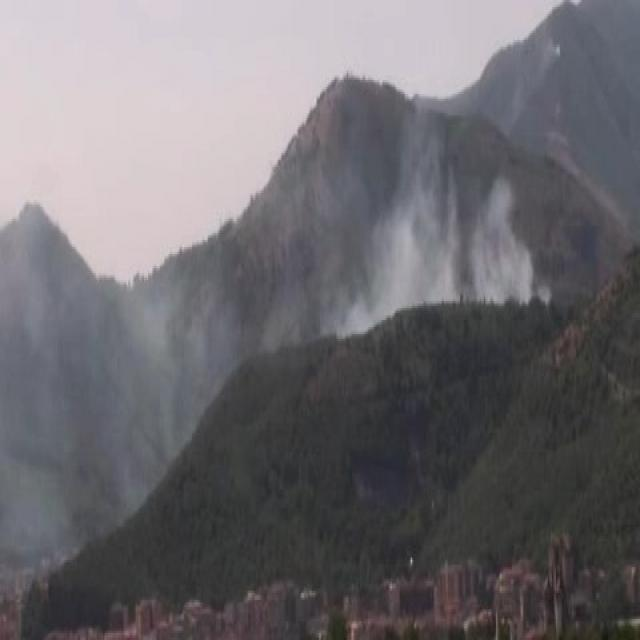smoke: (332, 166, 536, 334)
